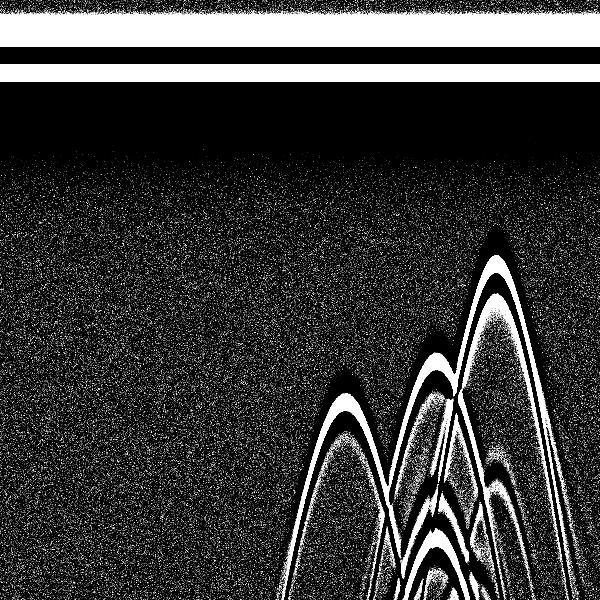pipe: (297, 8, 389, 469), (389, 3, 484, 438), (453, 6, 537, 339)
